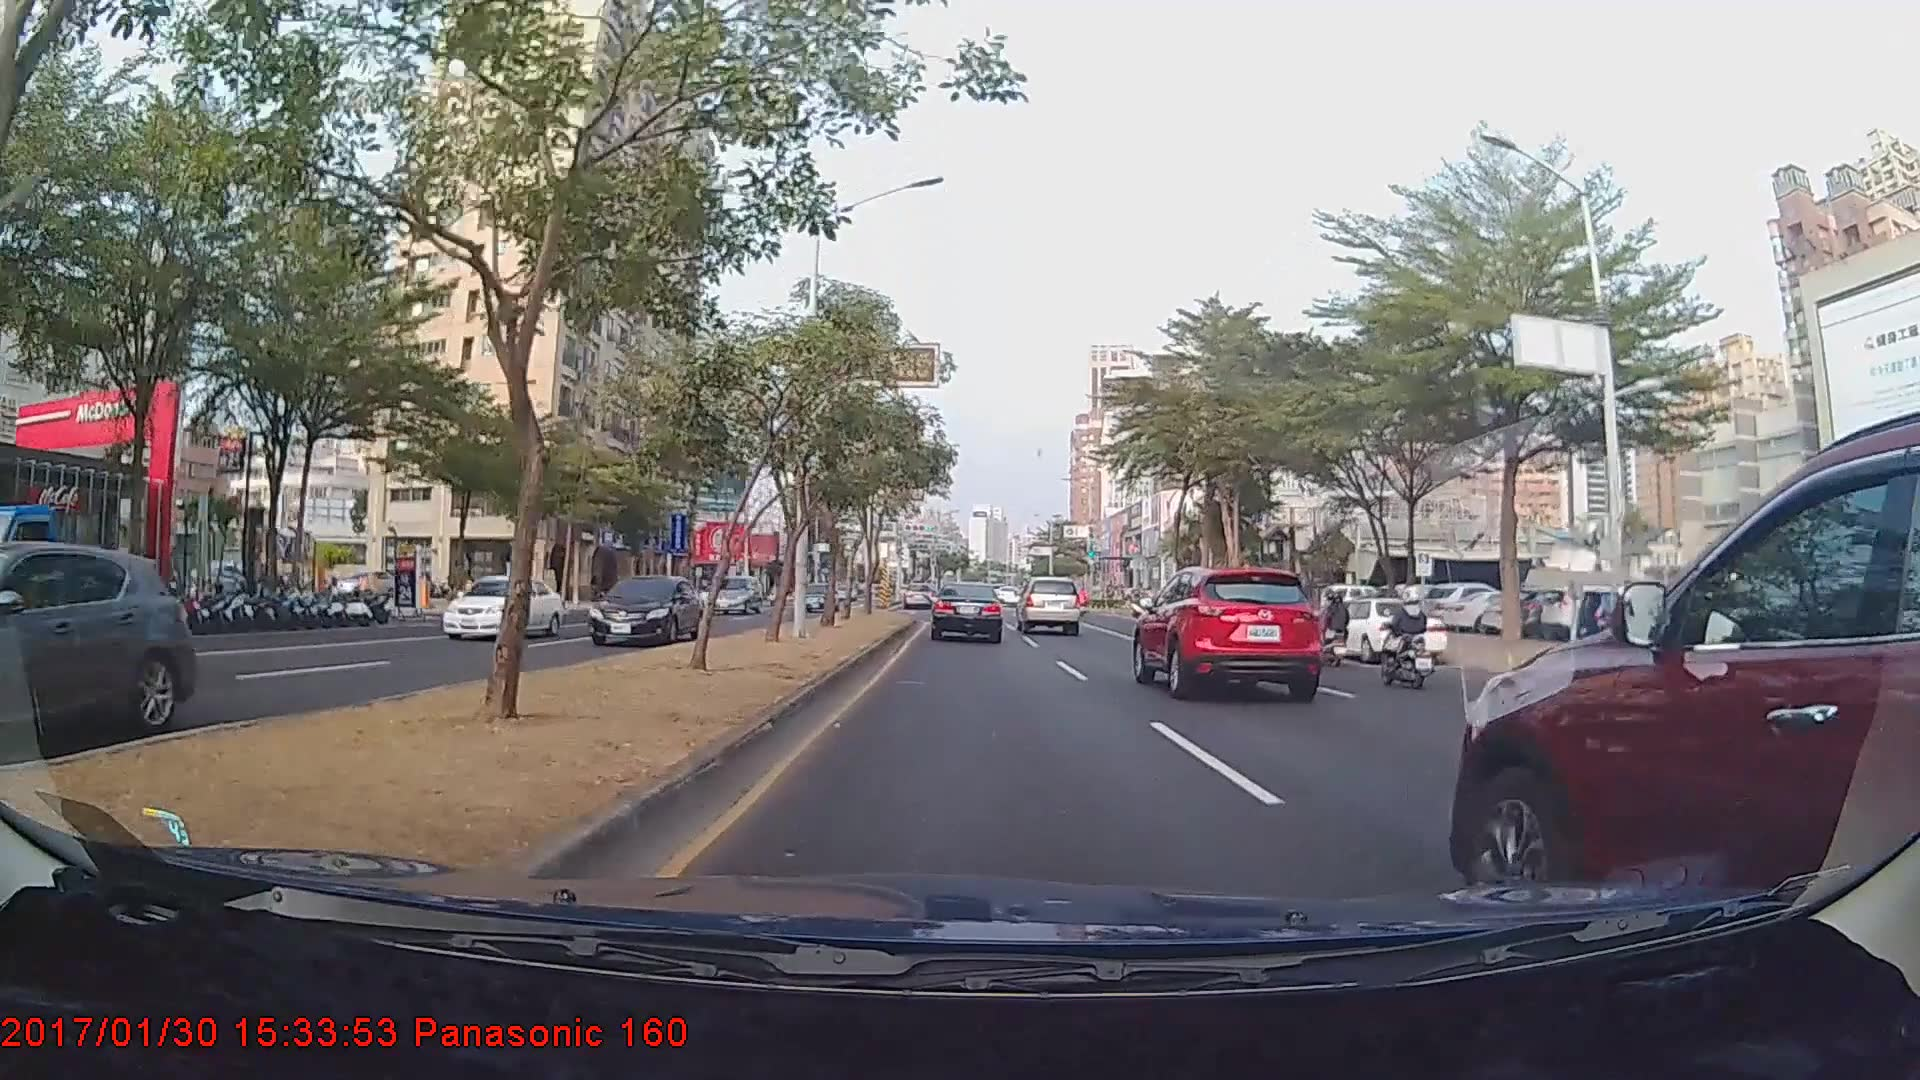rider: (1371, 583, 1439, 688)
vehicle: (1449, 406, 1920, 959), (0, 540, 198, 766), (1130, 560, 1326, 700), (586, 570, 708, 641), (1320, 594, 1446, 662), (441, 573, 561, 638), (929, 580, 1003, 643), (1016, 575, 1081, 634), (706, 573, 764, 614), (797, 580, 839, 611), (901, 582, 936, 610)
